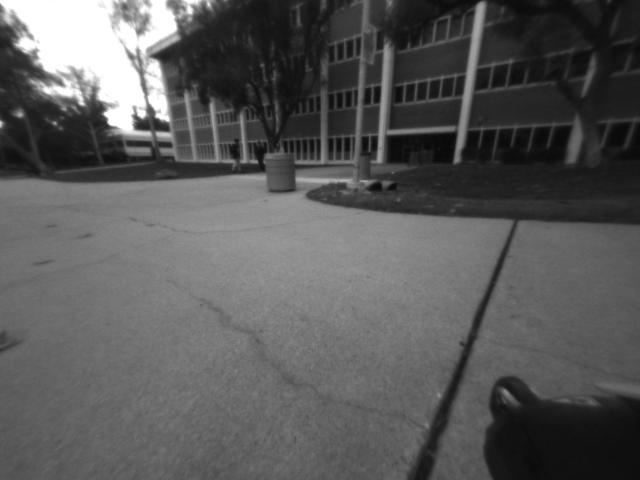trashcan: (267, 151, 299, 196)
